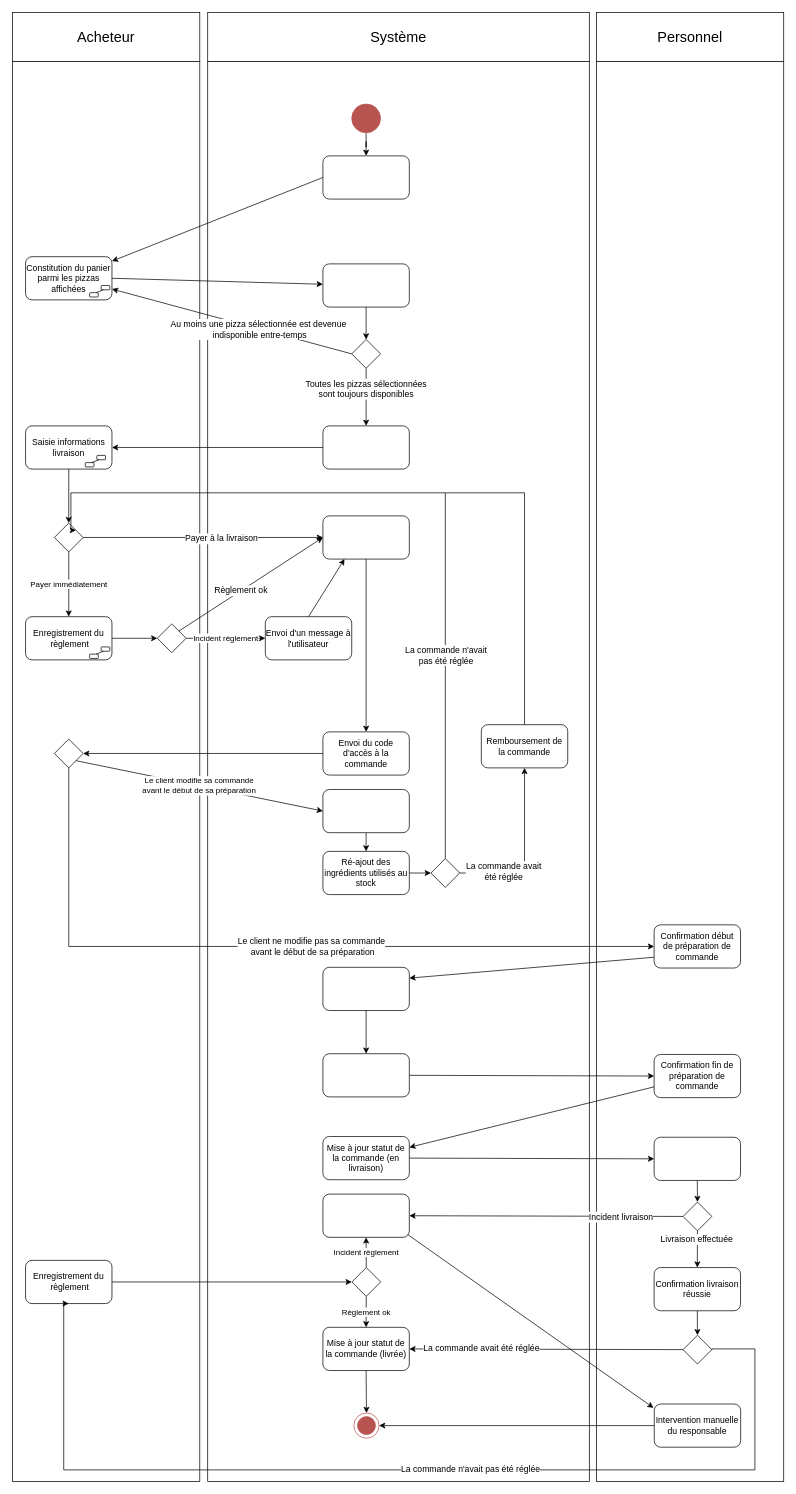
Image size: 796x1494. Some labels were removed from this diagram. Each missing label, with the centre of its shape:
Affichage des pizzas disponibles selon le stock: the point at 365,177
Ajout aux commandes en cours (à préparer): the point at 365,537
Envoi de l'aide-mémoire au pizzaiolo: the point at 365,1075
Livraison de la commande: the point at 697,1158
Mise à jour statut de la commande (en préparation): the point at 365,989
Notification du responsable: the point at 365,1215
Retrait des commandes en cours: the point at 365,811
Retrait des ingrédients utilisés du stock: the point at 365,447
Revérification du stock: the point at 365,285
